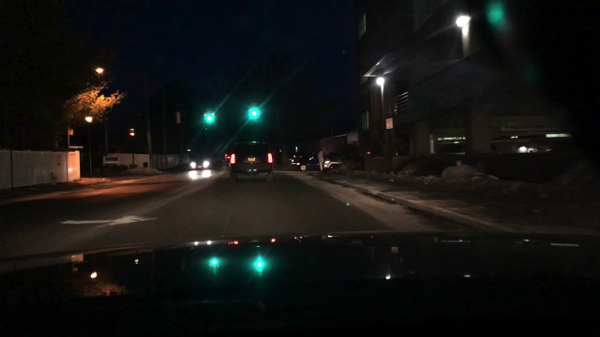car: (227, 140, 273, 184), (323, 153, 364, 171), (436, 140, 466, 155), (190, 153, 214, 171), (296, 154, 318, 171), (289, 154, 301, 165), (225, 151, 230, 163)
traffic light: (204, 109, 214, 126), (250, 103, 258, 120)
traffic sign: (384, 117, 393, 130)
